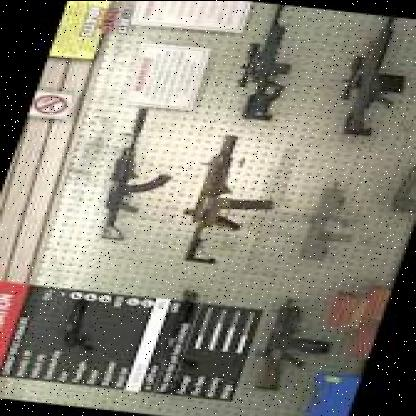rifle: (74, 104, 200, 250), (176, 132, 292, 268)
